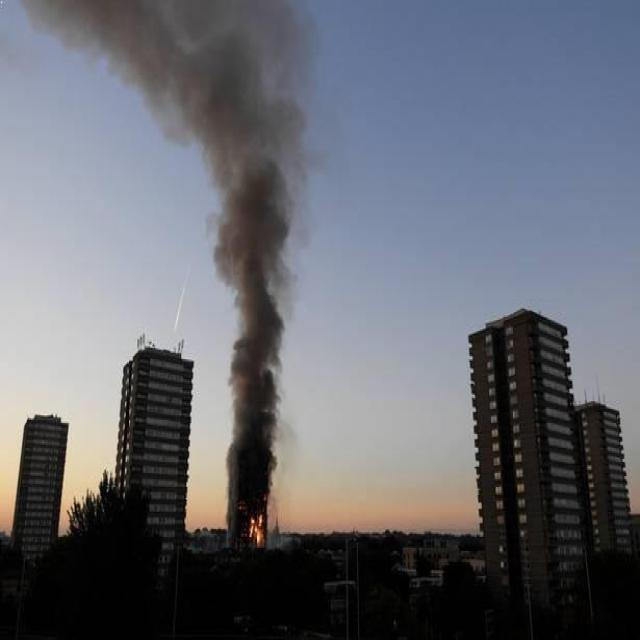Fire: (247, 512, 265, 550)
Smoke: (15, 0, 312, 175), (212, 172, 284, 512)
